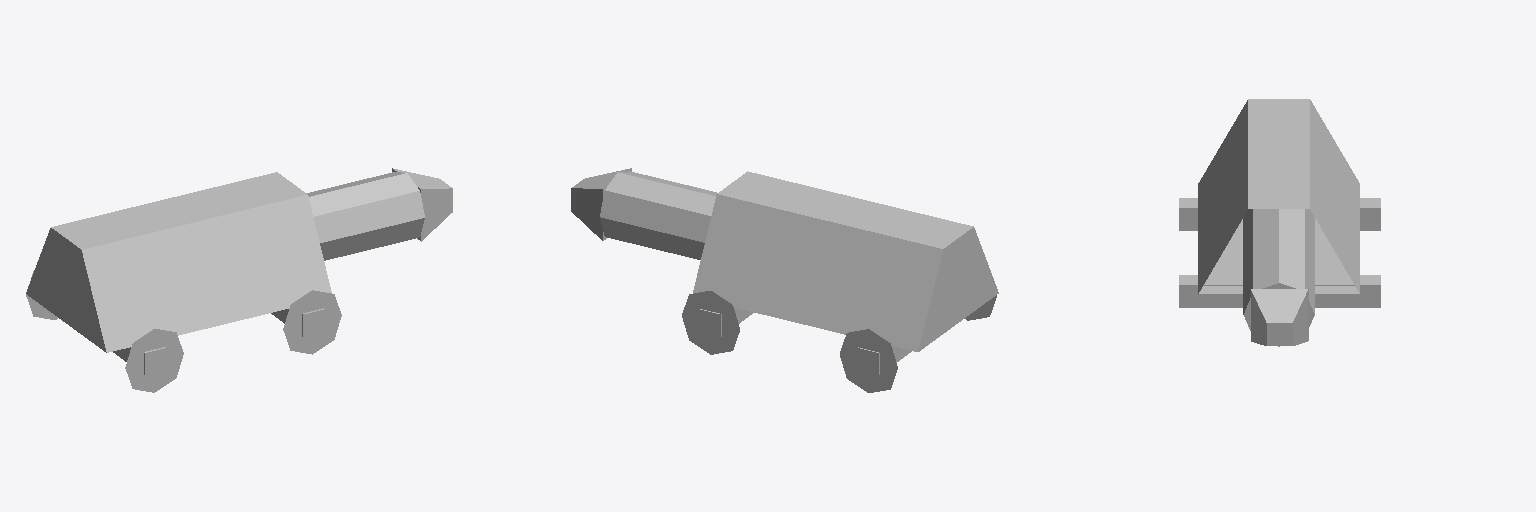
Rendered from heavybatteringram3f.obj.
3 renders of one model, left to right at view 1: azimuth 30°, elevation 25°; view 2: azimuth 150°, elevation 25°; view 3: azimuth 270°, elevation 25°, orthographic.
Parts seen in each view (by area): view 1: Cube, Plane.003, Plane.002, Cube.003, Cube.002, Cube.001; view 2: Cube, Plane.001, Plane, Cube.003, Cube.002, Cube.001; view 3: Cube, Cube.001, Cube.003, Cube.002.
Part boxes in pixels (bbox=[...]): Cube: bbox=[26, 172, 424, 352]; Plane.003: bbox=[283, 290, 341, 354]; Plane.002: bbox=[125, 329, 183, 392]; Cube.003: bbox=[392, 168, 452, 241]; Cube.002: bbox=[113, 347, 166, 375]; Cube.001: bbox=[271, 308, 324, 336]; Cube: bbox=[600, 171, 998, 351]; Plane.001: bbox=[840, 329, 897, 392]; Plane: bbox=[682, 291, 739, 354]; Cube.003: bbox=[571, 168, 631, 240]; Cube.002: bbox=[857, 346, 911, 375]; Cube.001: bbox=[699, 308, 753, 336]; Cube: bbox=[1198, 99, 1359, 346]; Cube.001: bbox=[1179, 275, 1380, 307]; Cube.003: bbox=[1251, 289, 1308, 345]; Cube.002: bbox=[1179, 198, 1380, 230].
Size of the model in its own units: 12.93 by 4.17 by 5.96.